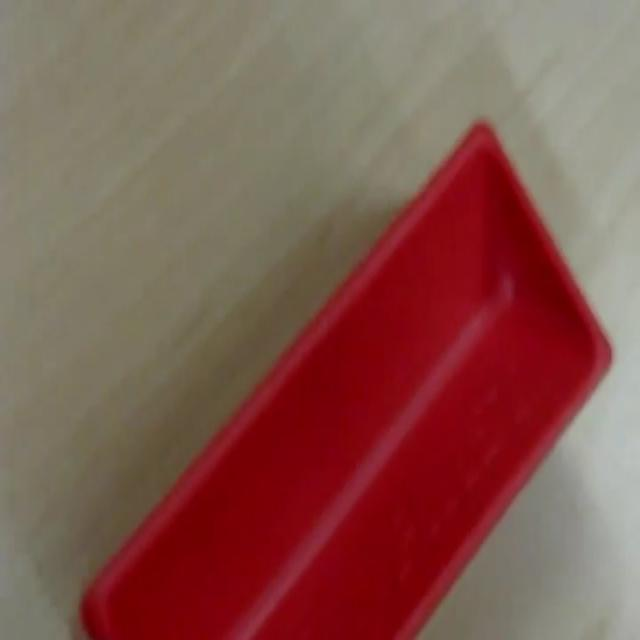red_block: (78, 116, 614, 637)
